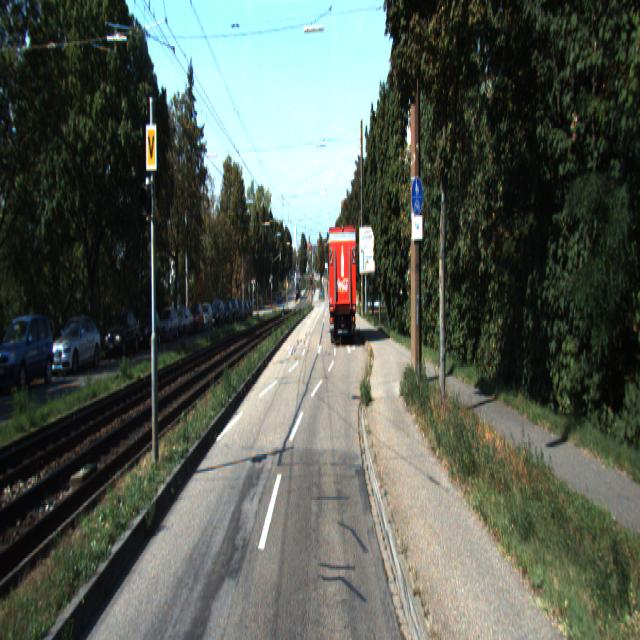Car: (0, 313, 59, 396), (49, 314, 103, 376), (103, 310, 140, 361), (136, 307, 162, 351), (155, 309, 179, 346), (188, 302, 205, 336)
DontCare: (208, 294, 258, 334)
Truck: (327, 225, 358, 348)
